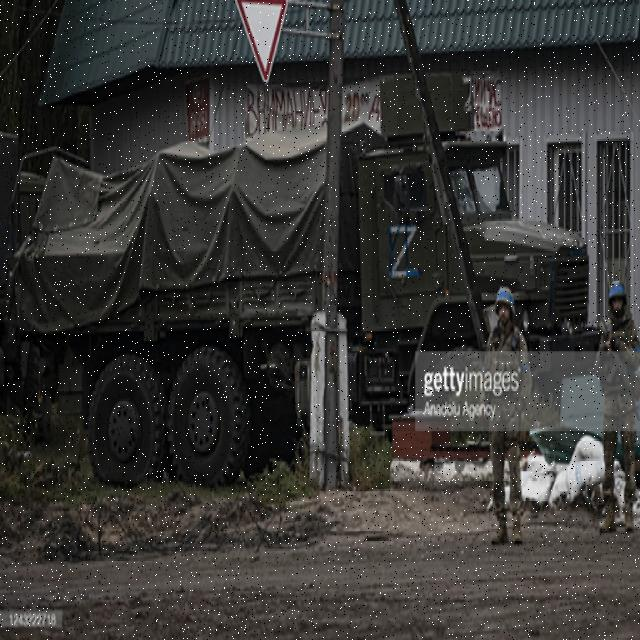TRUCK: (4, 62, 602, 486)
